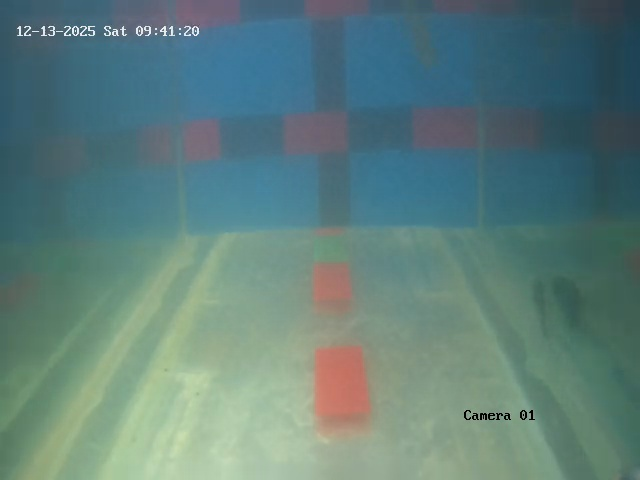fish: (528, 269, 556, 341)
